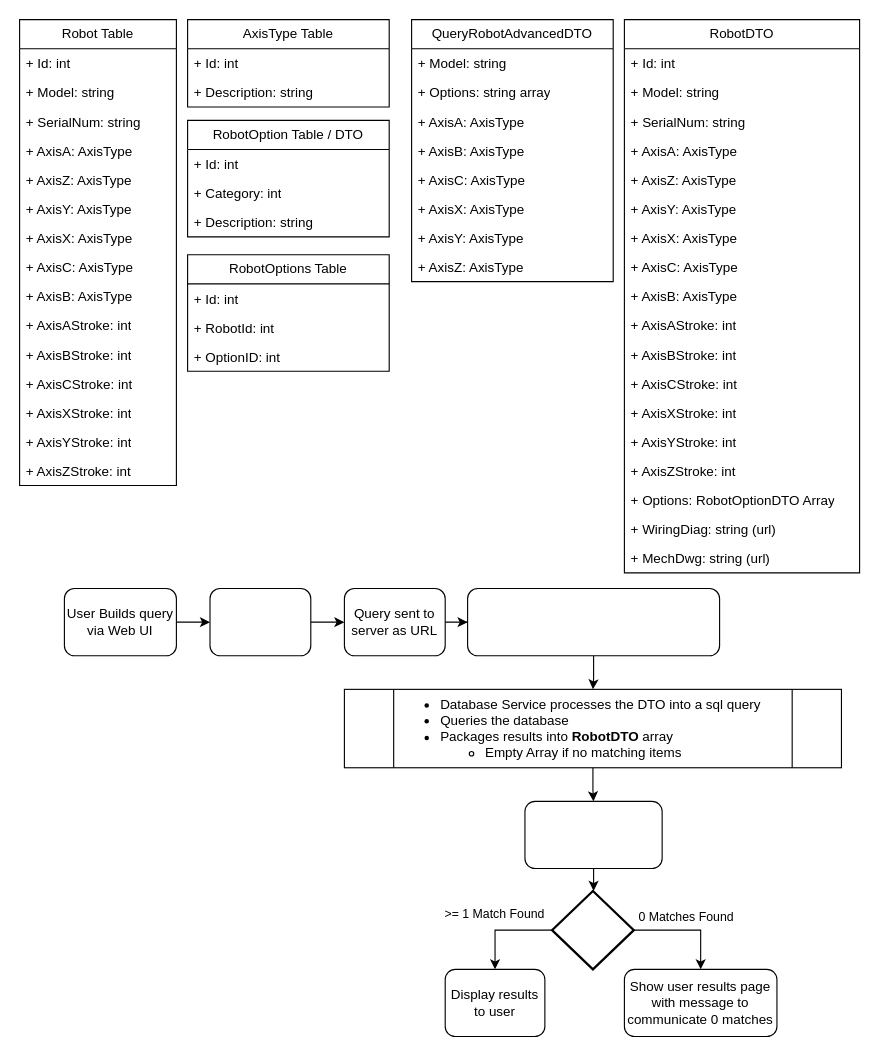
The diagram is 879 pixels wide and 1056 high, and some of its shapes have lost their labels. Each missing label, with the centre of its shape:
"Controller processes URL arguments into QueryRobotAdvancedDTO" belongs at point (593, 621).
"Controllers receives results from Database Service" belongs at point (593, 834).
"Matches?" belongs at point (592, 929).
"User Submits Query" belongs at point (260, 621).
